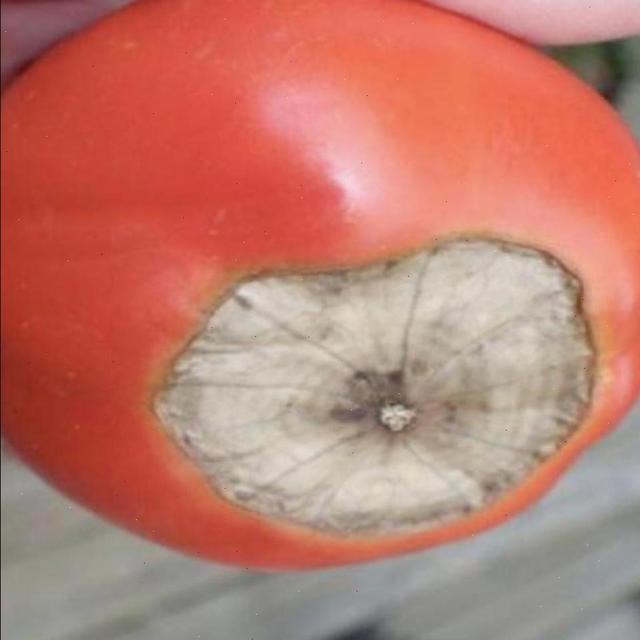Blossom End Rot Fruit: (81, 152, 403, 364)
